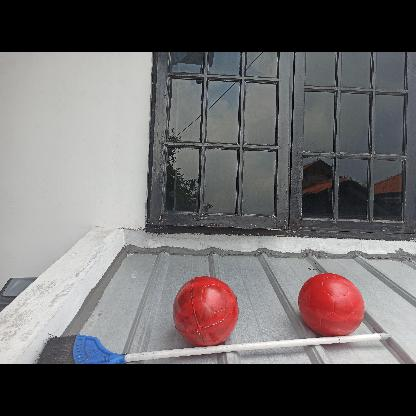red_ball: (172, 276, 240, 344), (298, 270, 366, 338)
